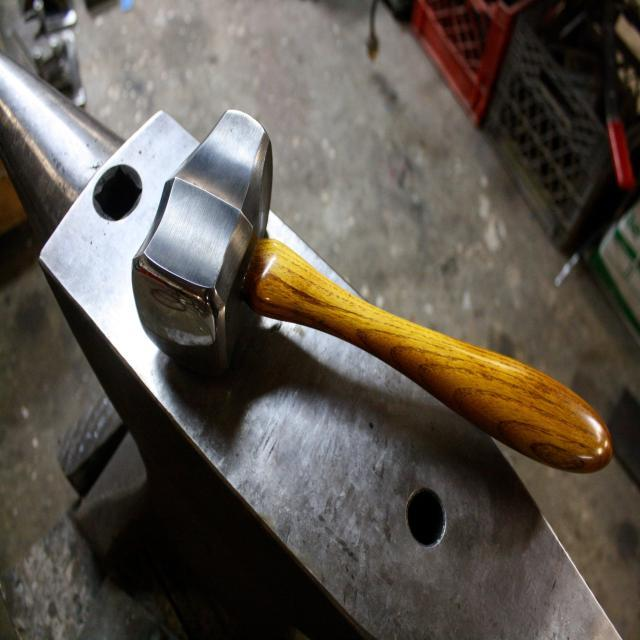hammer: (127, 98, 618, 494)
